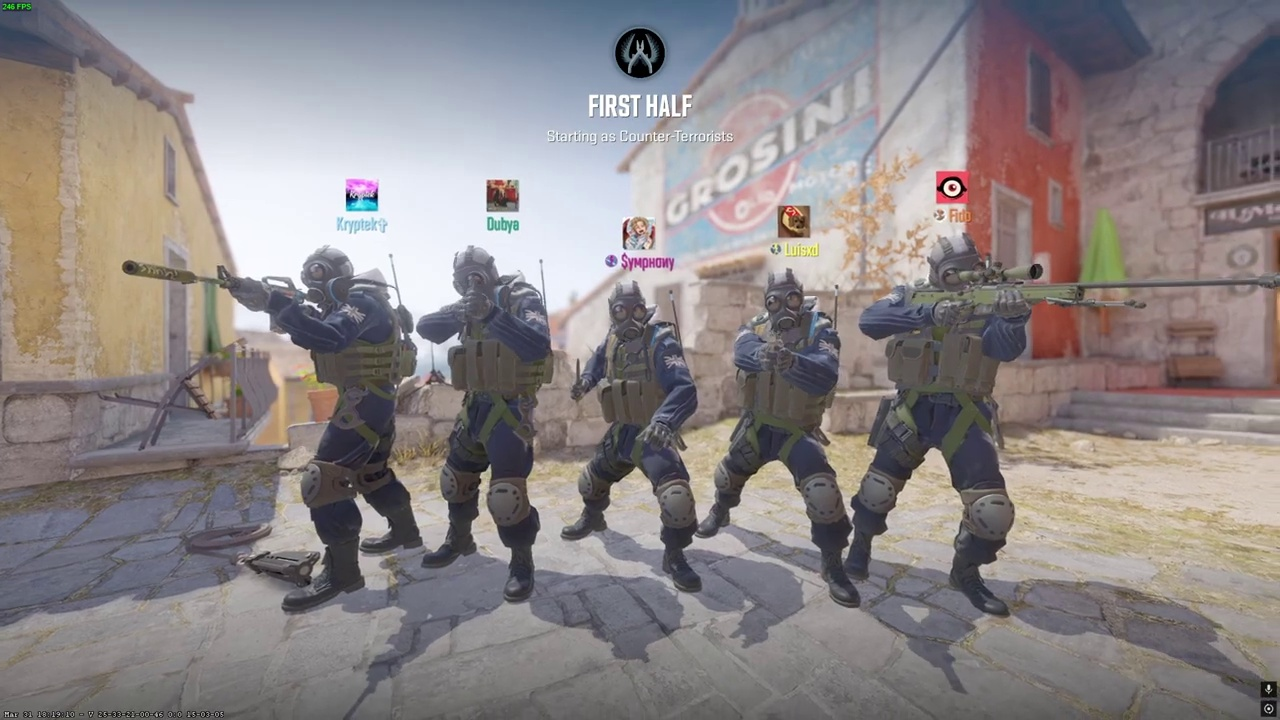CT: (845, 232, 1035, 618), (265, 244, 423, 612), (703, 267, 860, 607), (416, 245, 555, 603), (565, 280, 701, 590)
